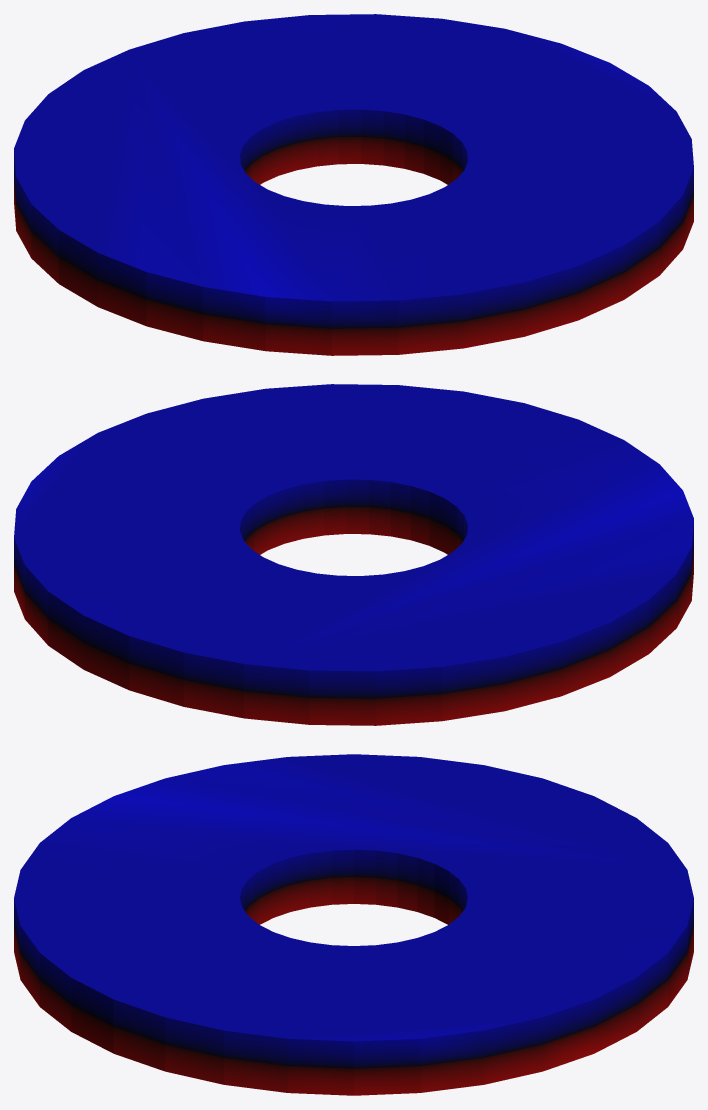
File: MagneticDiskFinal.fbx
The picture shows the model from 3 angles, top to bottom: view 1: azimuth 30°, elevation 25°; view 2: azimuth 150°, elevation 25°; view 3: azimuth 270°, elevation 25°; orthographic projection.
Visible parts, largest first — view 1: Cylinder.001, Cylinder; view 2: Cylinder.001, Cylinder; view 3: Cylinder.001, Cylinder.
Boxes of the visible parts, x1=… form: Cylinder.001: x1=14, y1=14, x2=693, y2=328; Cylinder: x1=14, y1=136, x2=693, y2=355; Cylinder.001: x1=14, y1=384, x2=693, y2=698; Cylinder: x1=14, y1=506, x2=693, y2=725; Cylinder.001: x1=14, y1=754, x2=693, y2=1068; Cylinder: x1=14, y1=876, x2=693, y2=1095.
Size of the model in its own units: 200 by 17.6 by 200.
